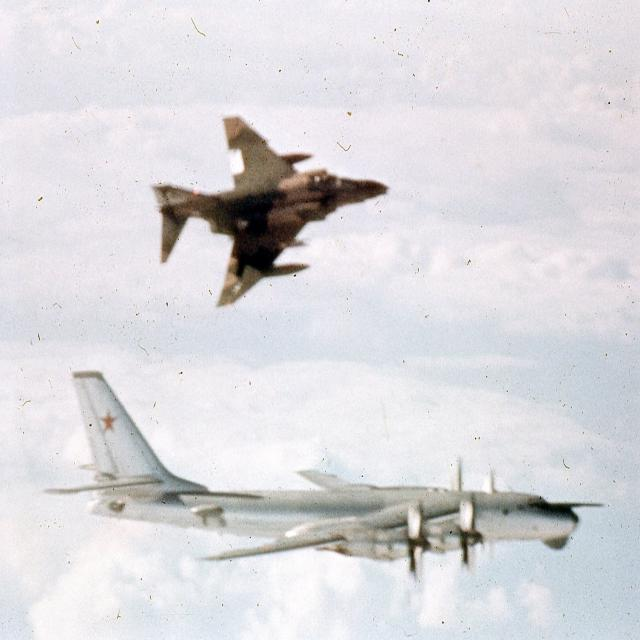MIL_Plane: (40, 369, 608, 584), (148, 116, 392, 308)
